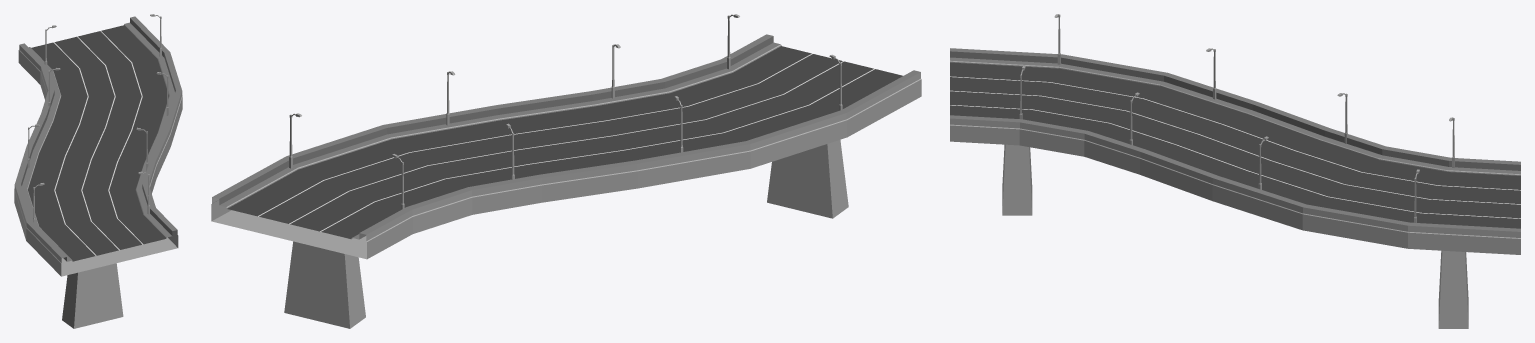
Rendered from wideHighwayScurve.glb.
3 renders of one model, left to right at view 1: azimuth 30°, elevation 25°; view 2: azimuth 150°, elevation 25°; view 3: azimuth 270°, elevation 25°, orthographic. The views are drawn at different scales.
Parts seen in each view (by area): view 1: Highway_S-Curve_mesh; view 2: Highway_S-Curve_mesh; view 3: Highway_S-Curve_mesh.
Part boxes in pixels (x1,y1,x2,y2): Highway_S-Curve_mesh: [14, 14, 182, 328]; Highway_S-Curve_mesh: [211, 14, 921, 328]; Highway_S-Curve_mesh: [950, 14, 1520, 328].
Size of the model in its own units: 65 by 26.97 by 85.
Materials: 2 (1 with a texture image).
